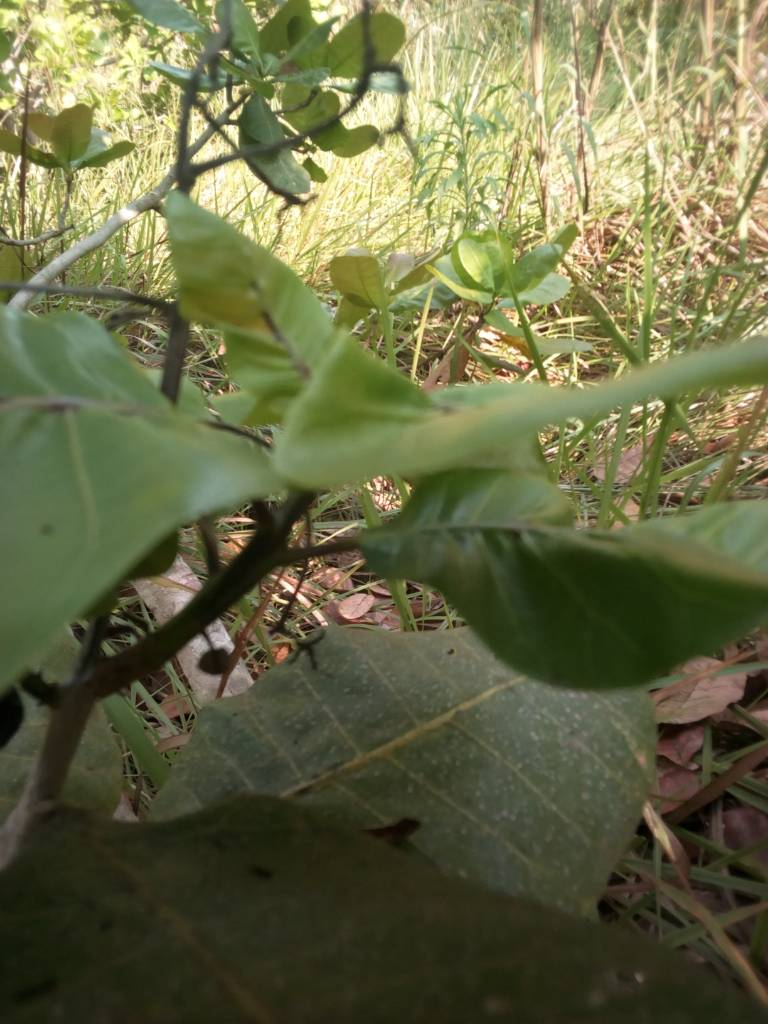Oidium: (143, 589, 660, 892)
